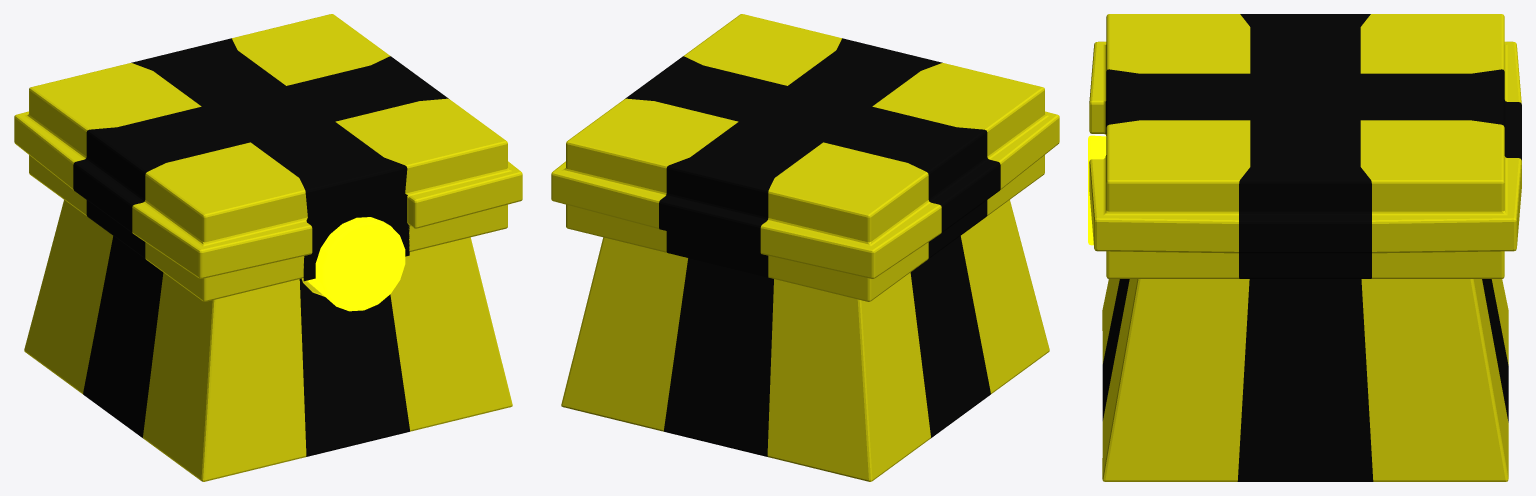
File: Fragile.fbx
The picture shows the model from 3 angles, left to right: view 1: azimuth 30°, elevation 25°; view 2: azimuth 150°, elevation 25°; view 3: azimuth 270°, elevation 25°; orthographic projection. The views are drawn at different scales.
Visible parts, largest first — view 1: Fragile; view 2: Fragile; view 3: Fragile.
Part boxes in pixels (bbox=[...]): Fragile: bbox=[14, 14, 522, 481]; Fragile: bbox=[551, 14, 1059, 481]; Fragile: bbox=[1088, 14, 1521, 481].
Bounding box in the file's own units: 90.14 × 68.99 × 90.36.
